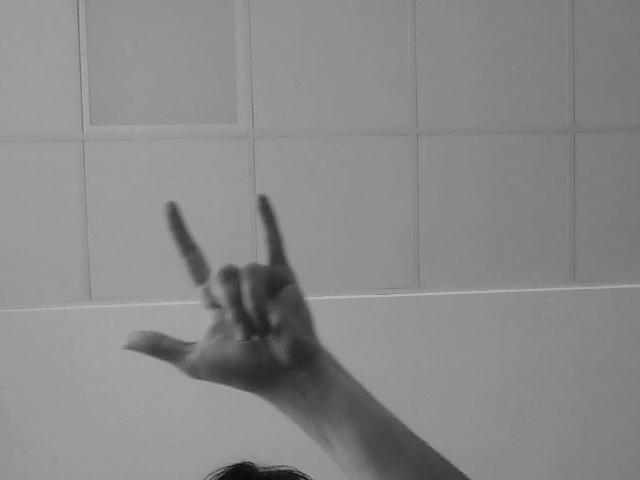I_Love_You: (116, 188, 350, 400)
